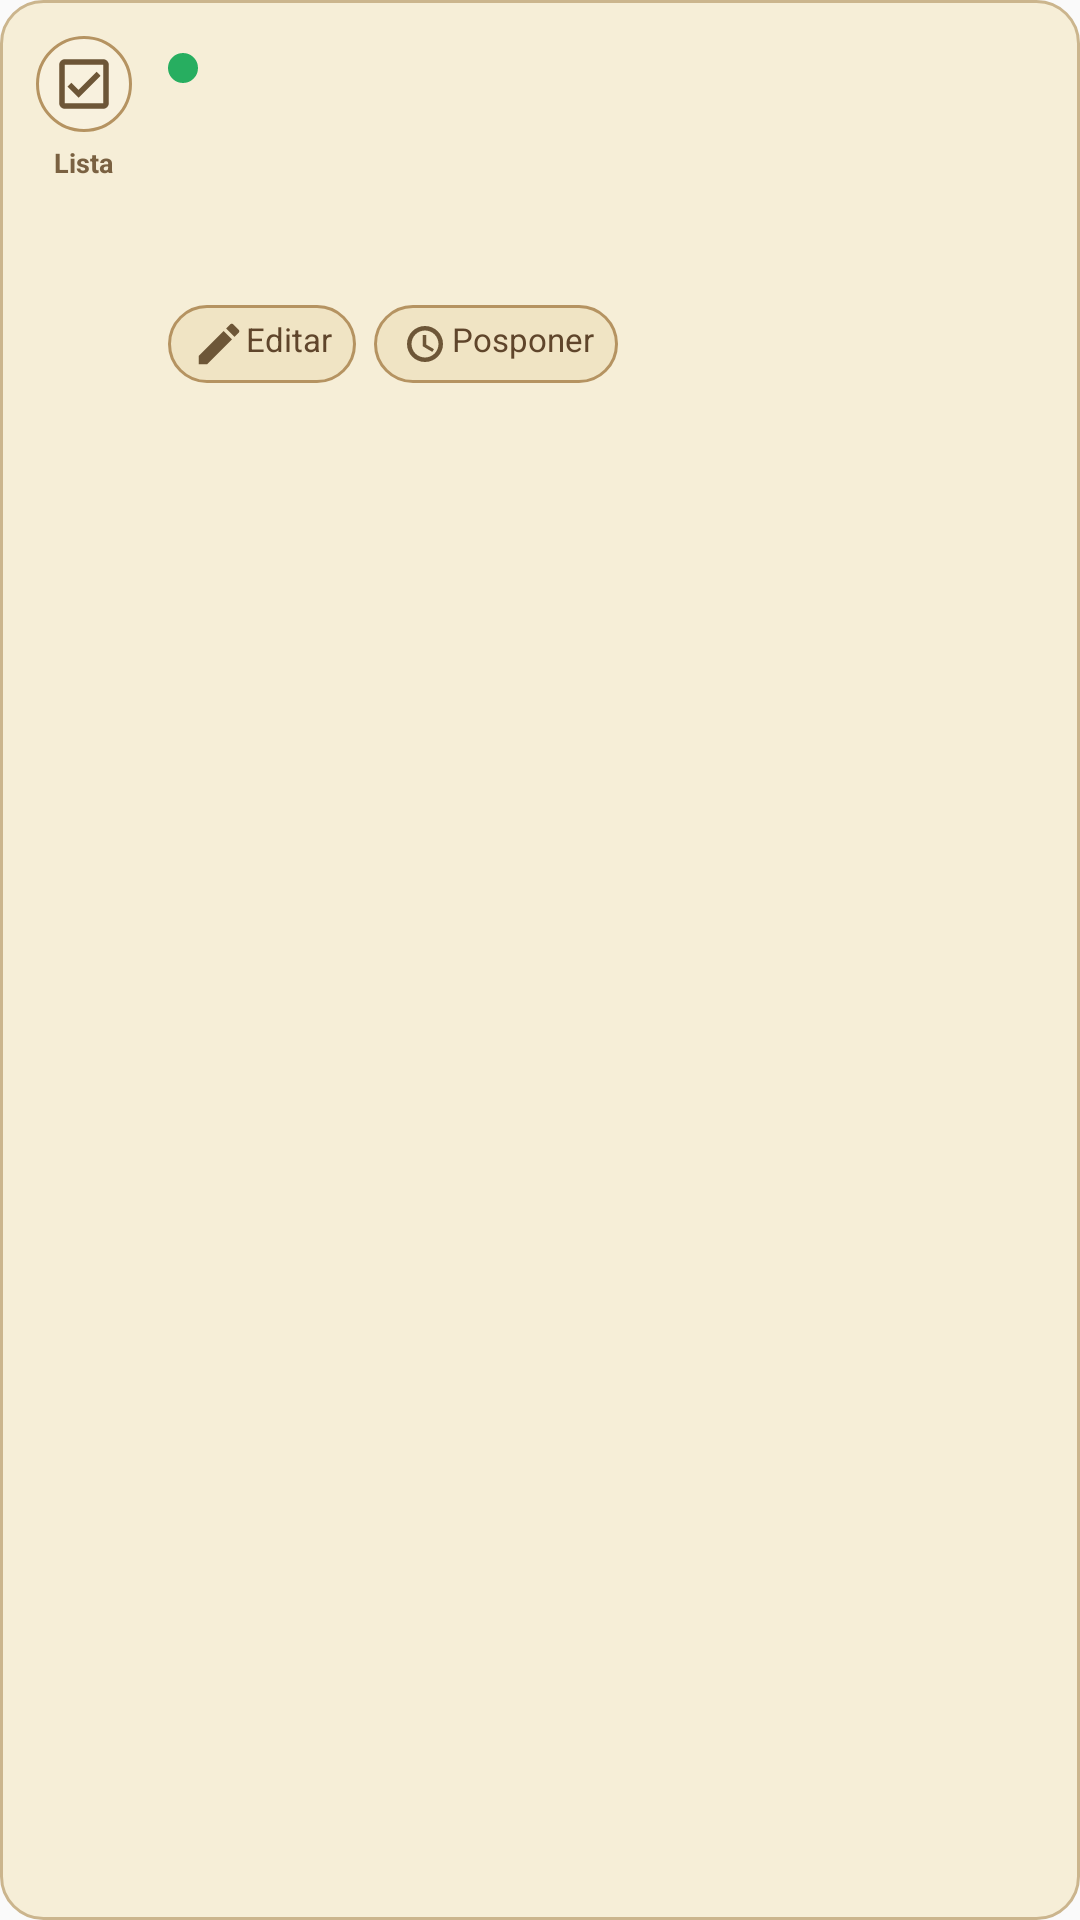

Point at icon controls on the screen. Image size 1080 x 1920, points as point (x, y).
Marcar tarea completada: point (84, 84)
